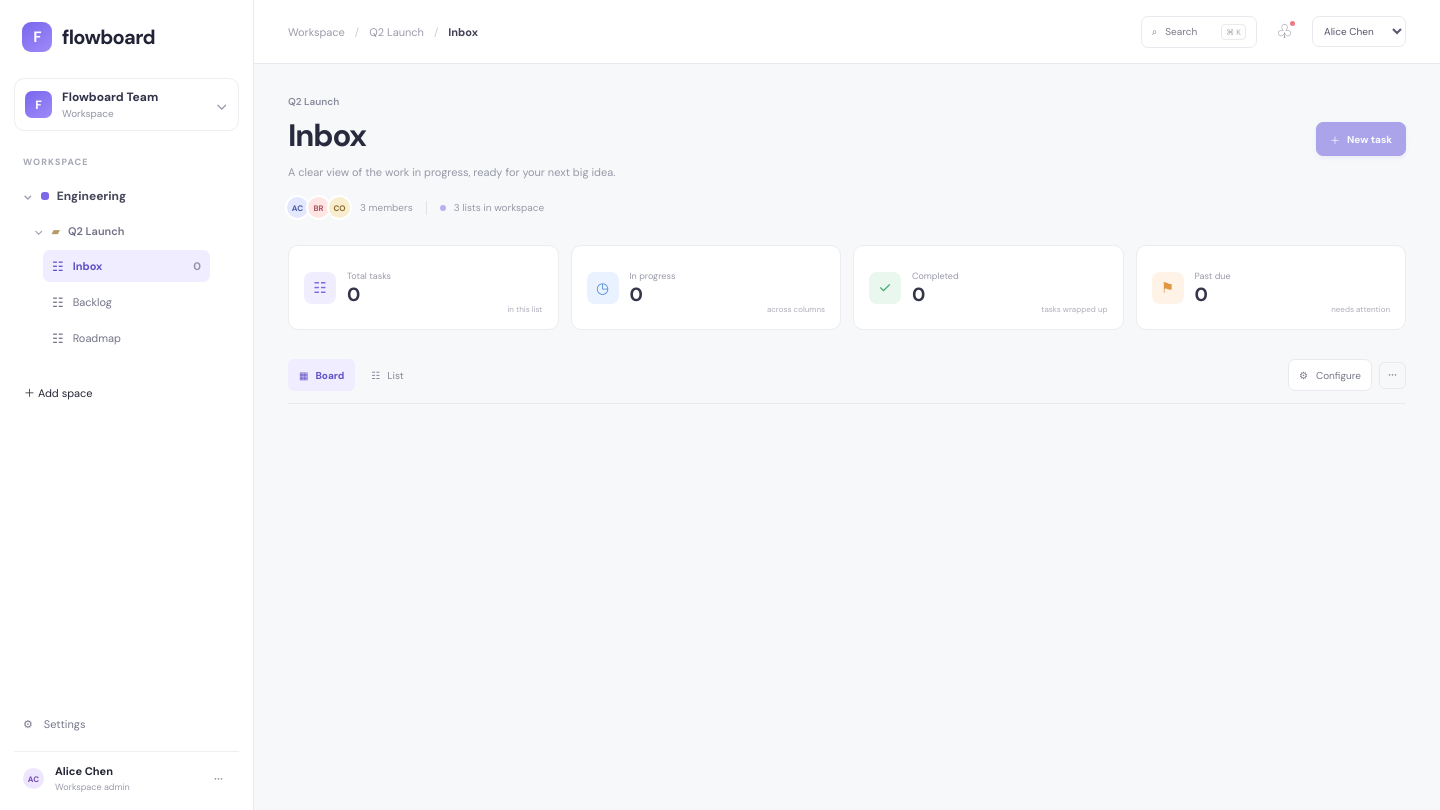
Flowboard list workflow › removes private lists when switching from Alice to Bob
The image size is (1440, 810).
Expected: the button "☷ Roadmap" is shown, [43,322,210,354]
Select "Bob Rivera" in the dropdown named "Demo user" at (1359, 32), box [1312,16,1406,47]
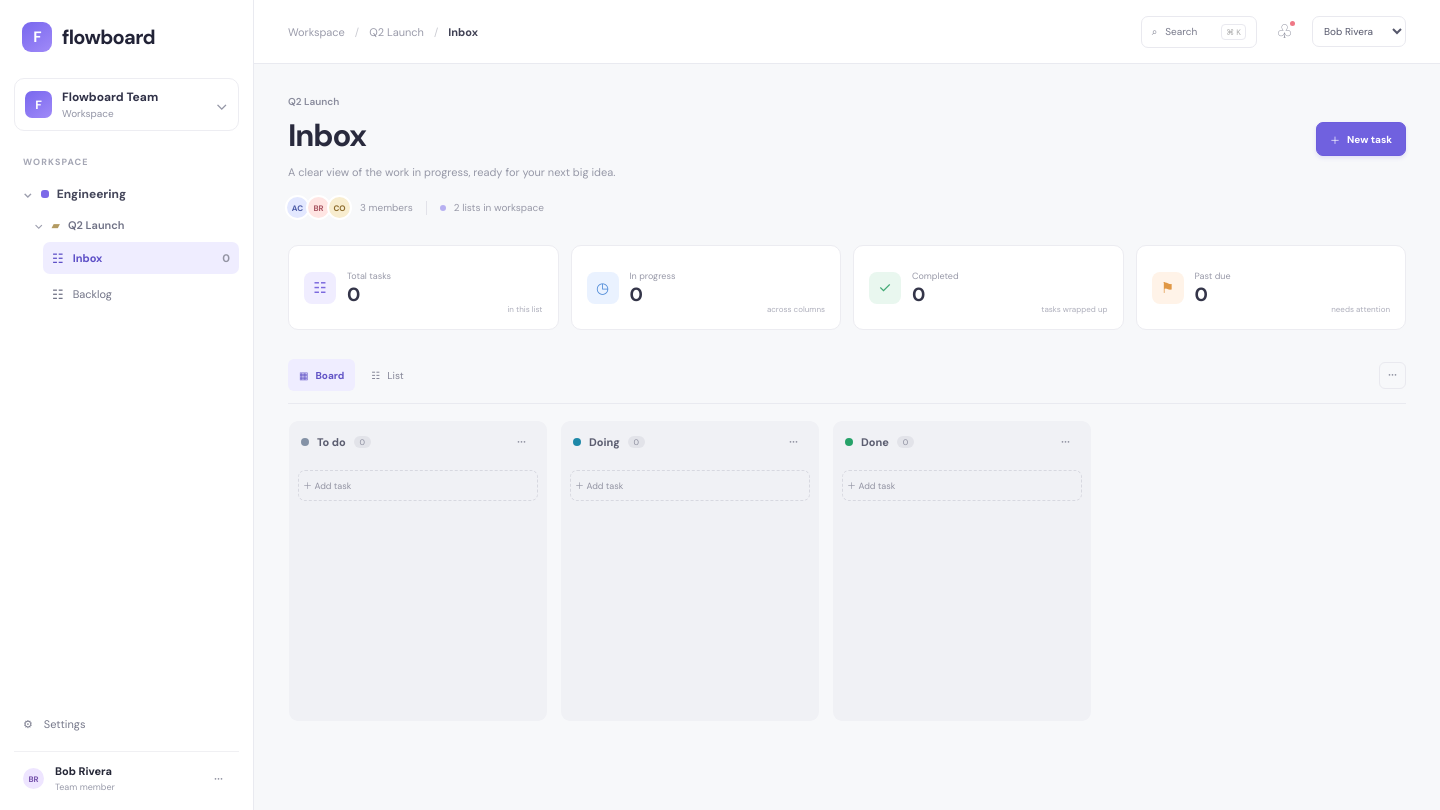
Now the button "Roadmap" is gone
